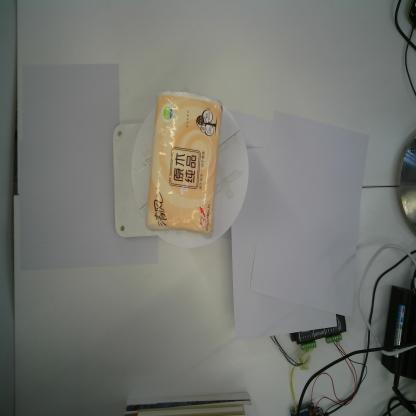Tissue: (144, 89, 222, 237)
